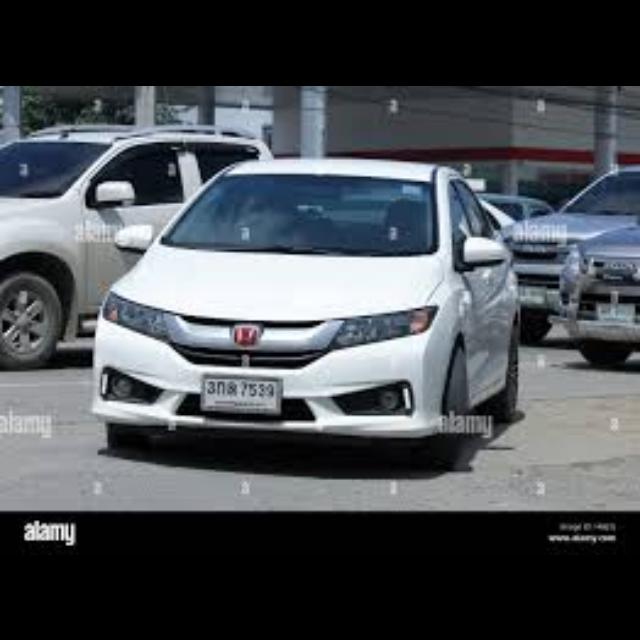vehicles: (80, 150, 528, 464), (554, 210, 640, 360), (476, 192, 550, 222)
